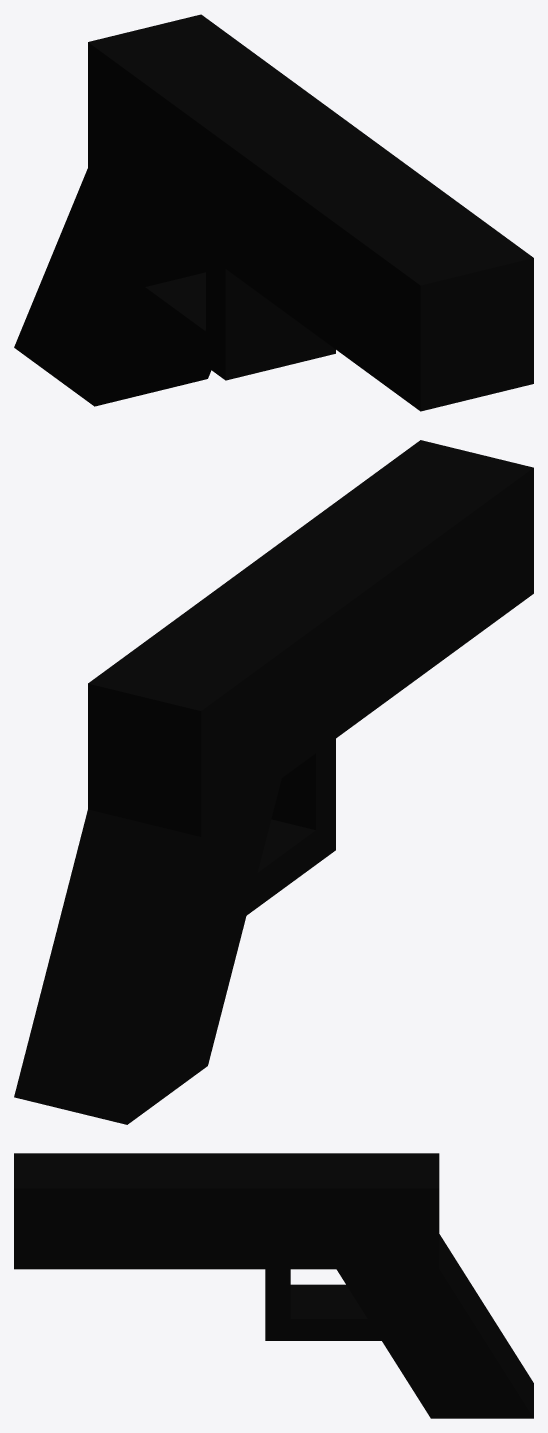
File: player.obj
The picture shows the model from 3 angles, top to bottom: view 1: azimuth 30°, elevation 25°; view 2: azimuth 150°, elevation 25°; view 3: azimuth 270°, elevation 25°; orthographic projection. The views are drawn at different scales.
Parts seen in each view (by area): view 1: 立方体; view 2: 立方体; view 3: 立方体.
Part boxes in pixels (x1,y1,x2,y2): 立方体: (14, 14, 533, 411); 立方体: (14, 440, 533, 1124); 立方体: (14, 1153, 533, 1418).
Bounding box in the file's own units: 0.1622 × 0.4918 × 1.01.
